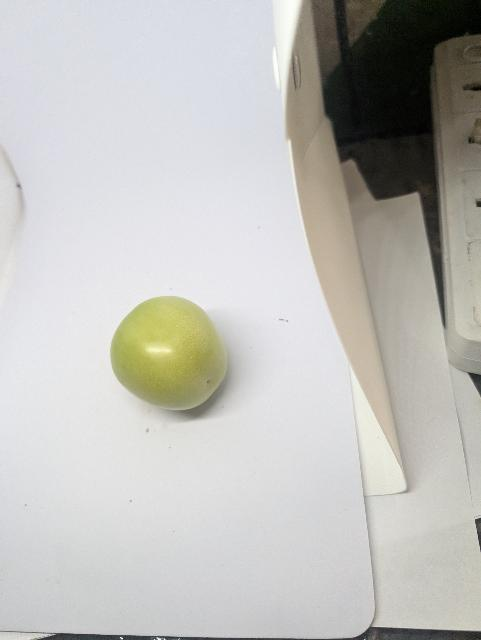green: (107, 292, 231, 413)
